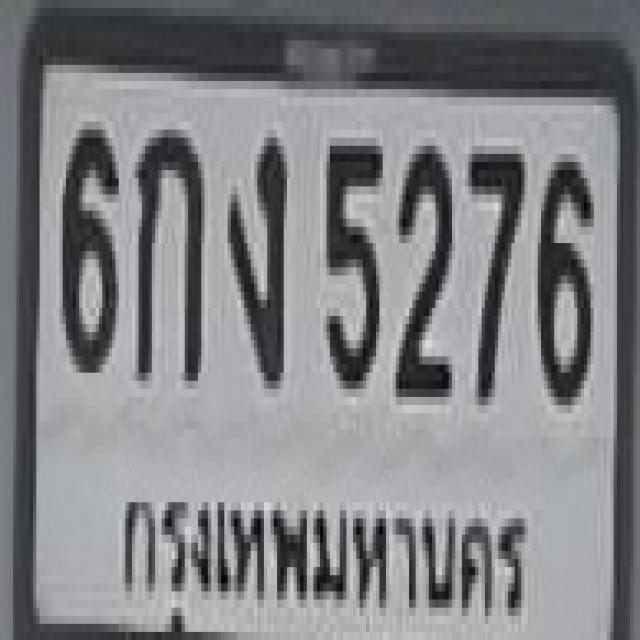2: (392, 138, 448, 389)
5: (324, 134, 379, 376)
6: (534, 146, 590, 397), (60, 117, 116, 360)
7: (465, 138, 521, 397)
A01: (132, 121, 201, 372)
A07: (224, 126, 284, 377)
BKK: (114, 463, 530, 640)
